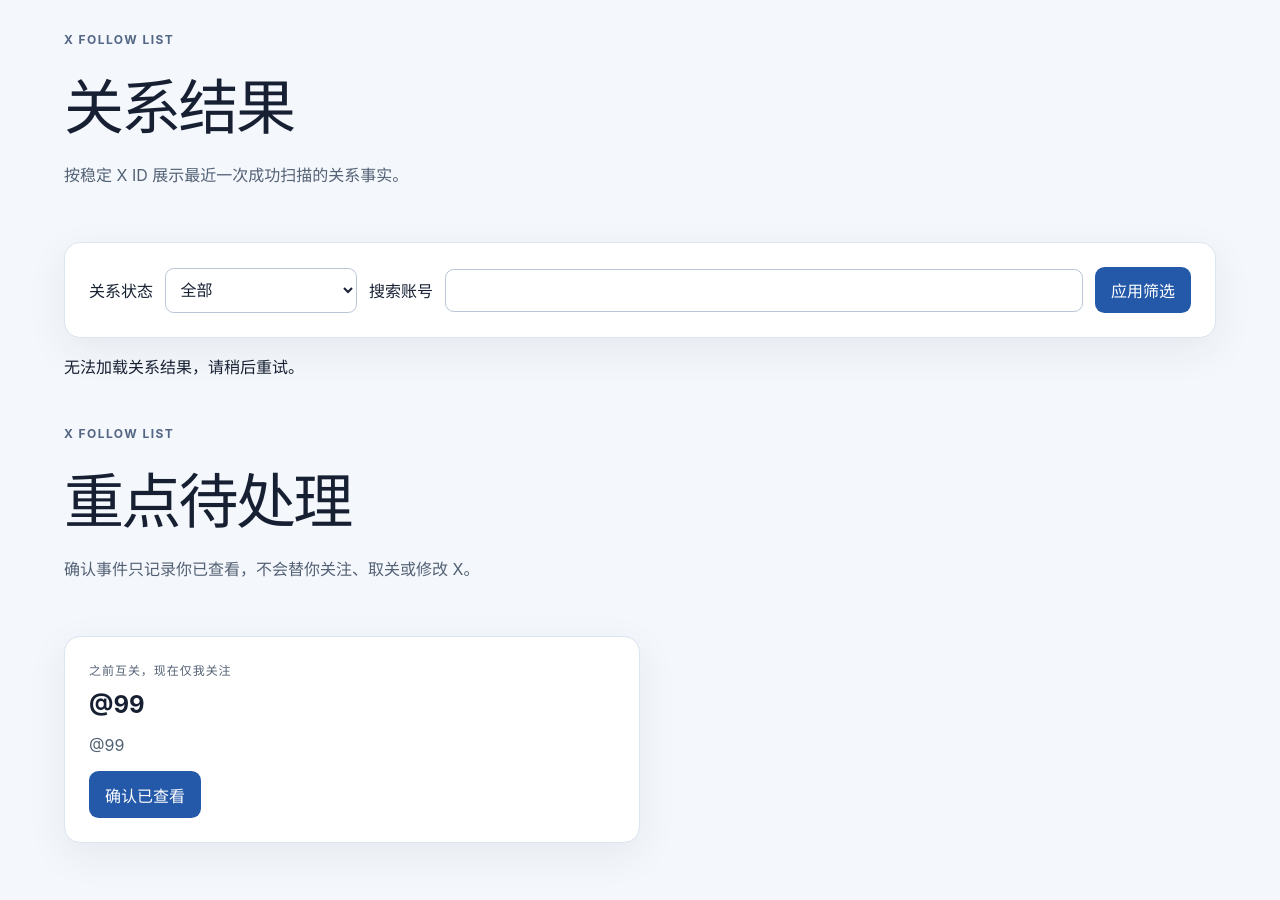
Test: A-12 relationship result journeys › keeps relationship load and stale event errors actionable
The width and height of the screenshot is (1280, 900).
Expected: the text "无法加载关系结果，请稍后重试。" is shown, [64,357,304,377]
Expected: the heading "@99" is shown, [89,690,145,719]
Click the button "确认已查看" at (145, 795), box [89,771,201,818]
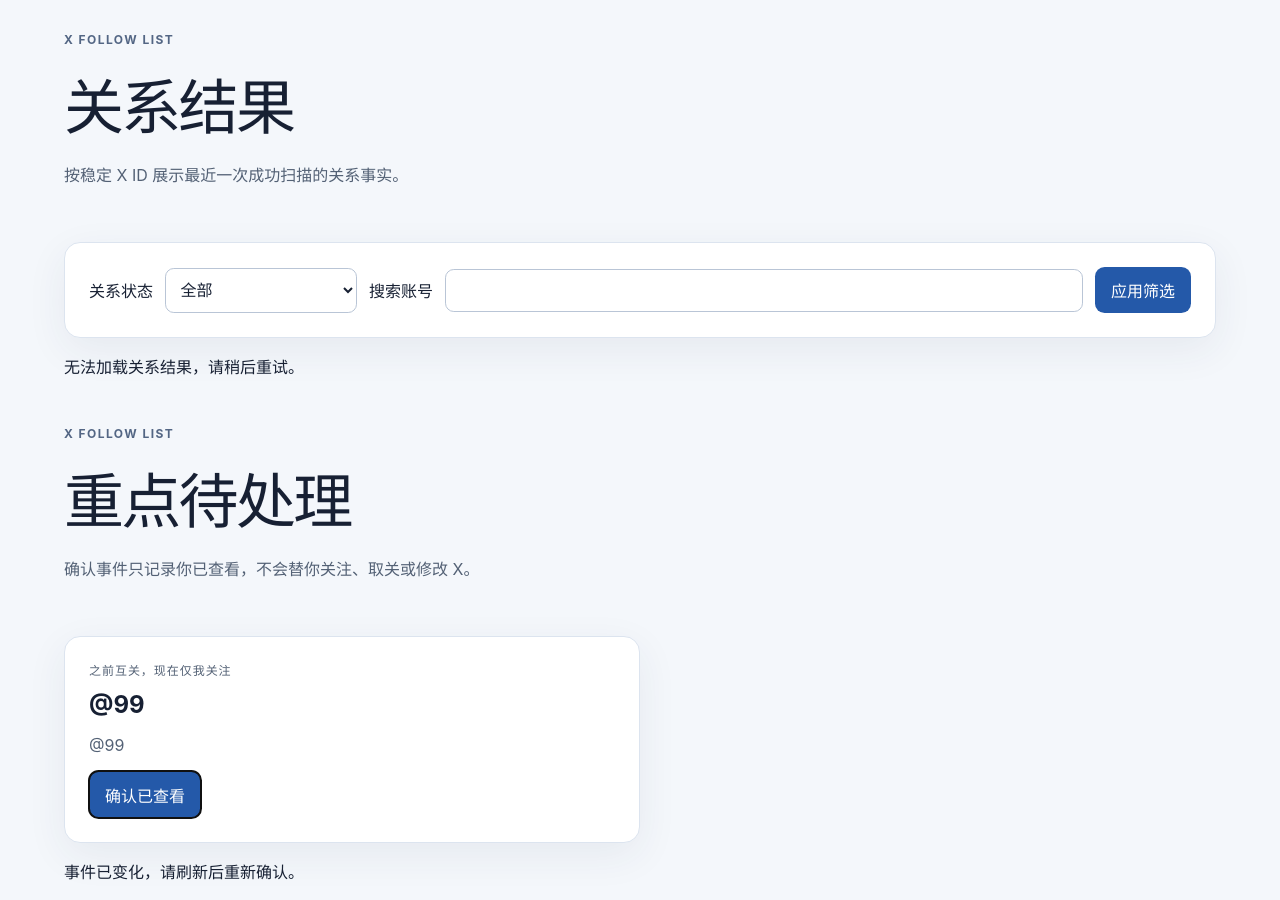
Now the text "事件已变化，请刷新后重新确认。" is shown, box [64,862,304,882]
